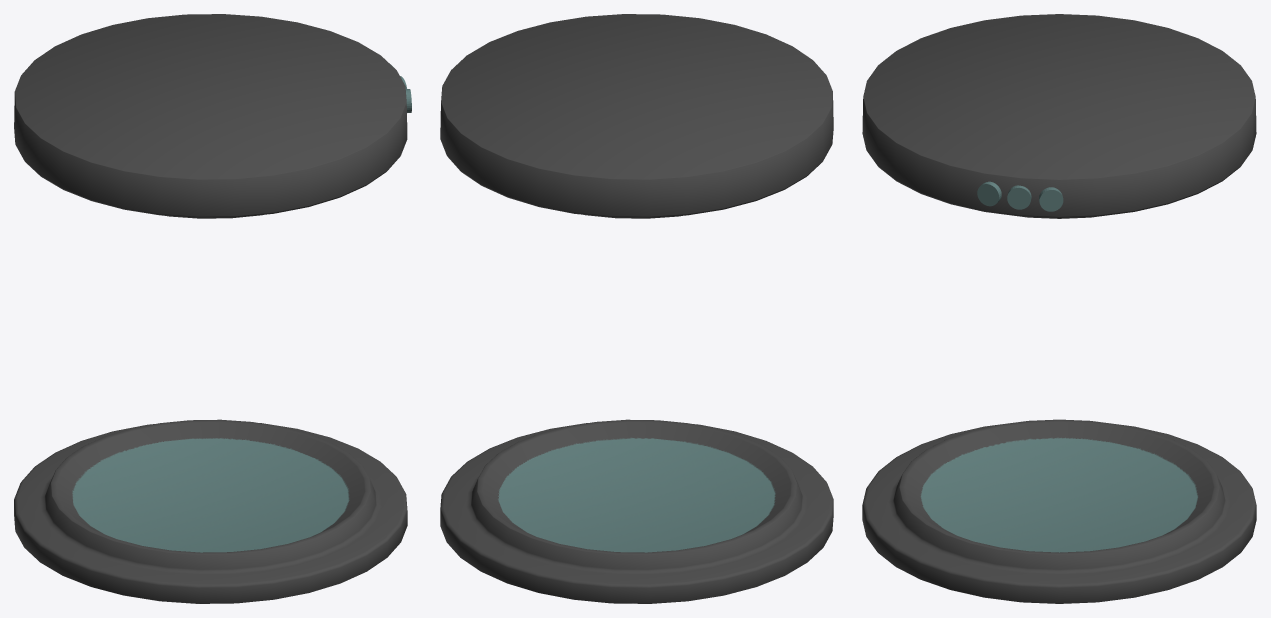
File: Teleporter.fbx
3 renders of one model, left to right at view 1: azimuth 30°, elevation 25°; view 2: azimuth 150°, elevation 25°; view 3: azimuth 270°, elevation 25°, orthographic.
Parts seen in each view (by area): view 1: Teleporter; view 2: Teleporter; view 3: Teleporter.
Boxes of the visible parts, left/top/right/bottom form: Teleporter: left=14, top=14, right=411, bottom=603; Teleporter: left=440, top=14, right=833, bottom=603; Teleporter: left=862, top=14, right=1256, bottom=603.
Bounding box in the file's own units: 466 × 544 × 458.
1 material, 1 textured.
